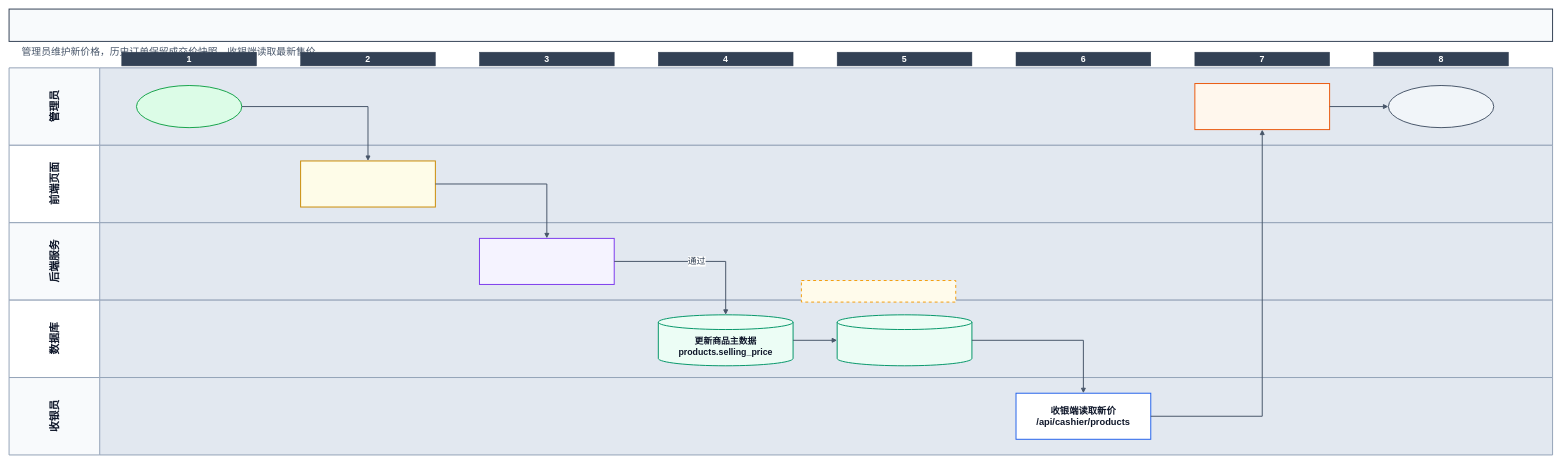
Image size: 1561x464. Some labels were removed from this diagram. The centre of each missing label's shape, as x and y in pixels:
保留历史快照 sale_items.unit_price: the point at 904,340
商品调价泳道图: the point at 780,25
复核毛利变化 analytics/finance: the point at 1262,106
提出调价 成本/促销/竞品: the point at 189,106
校验商品编码 售价 >= 0: the point at 546,261
校验失败 -> 返回表单错误: the point at 878,291
编辑商品价格 /product: the point at 368,183
调价完成: the point at 1441,106
